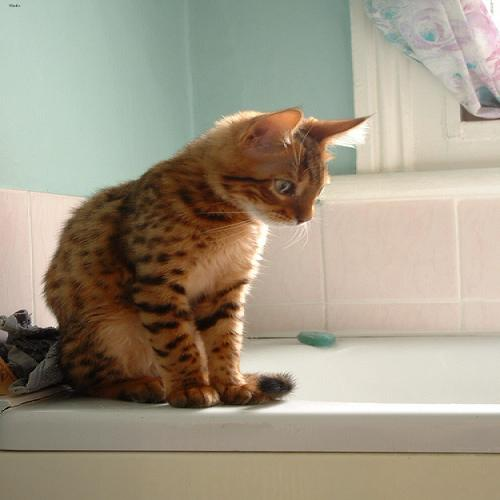cat-face: (187, 106, 369, 231)
